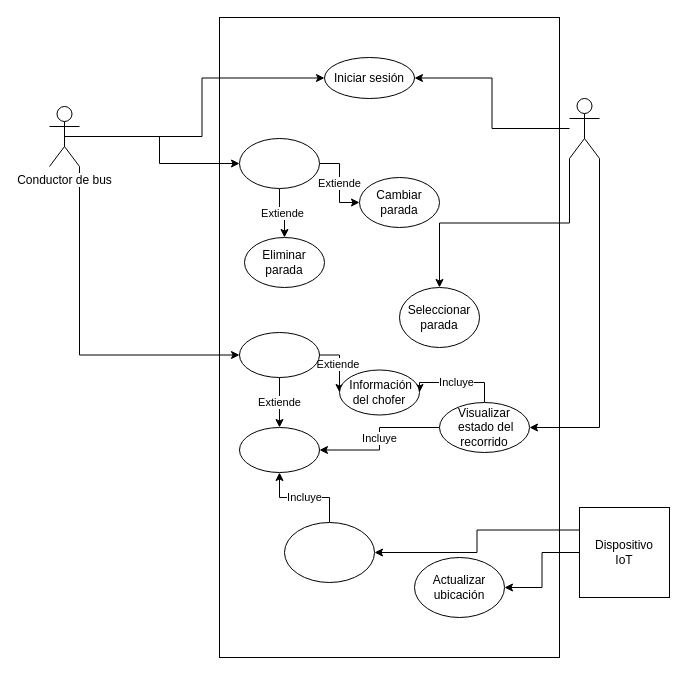
This 687x675 diagram has some shape labels left out. The box of each missing label's shape, as (x1, y1, x2, y2) in pixels:
Información del bus: (238, 426, 320, 472)
Mostrar historial de datos: (284, 522, 374, 582)
Registrar datos: (238, 332, 320, 378)
Registrar parada: (238, 138, 320, 188)
Usuario: (568, 98, 600, 158)
